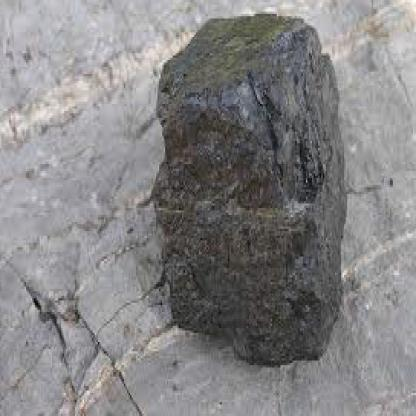Sedimentary_coal: (151, 5, 358, 365)
